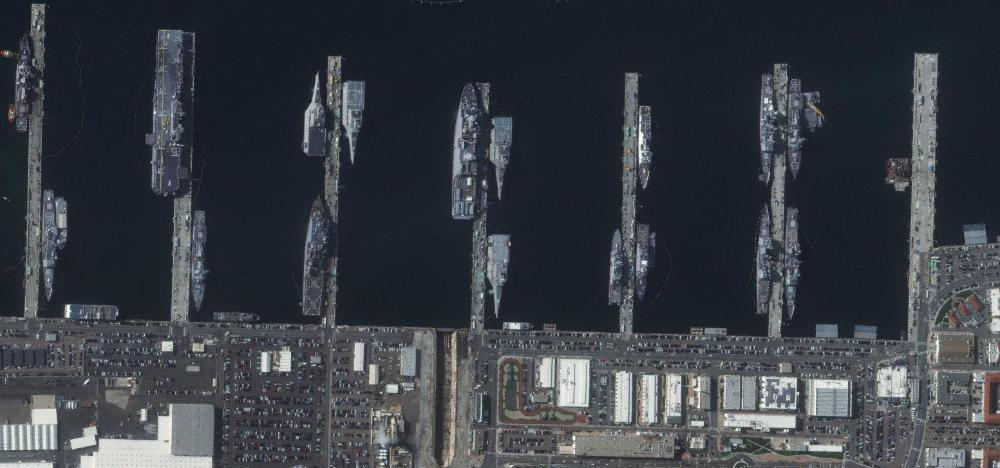amphiby: (451, 77, 482, 224), (301, 191, 330, 322)
destroyer: (40, 188, 59, 306), (784, 203, 801, 327), (756, 201, 774, 318), (761, 71, 776, 188)
fregate: (12, 32, 33, 136), (787, 75, 806, 183), (189, 208, 208, 314), (639, 103, 655, 193), (636, 220, 653, 300), (607, 226, 623, 307)
littoral combat ship: (302, 71, 331, 162), (485, 232, 513, 323), (340, 78, 367, 168), (491, 112, 515, 205)
pha: (153, 28, 190, 203)
